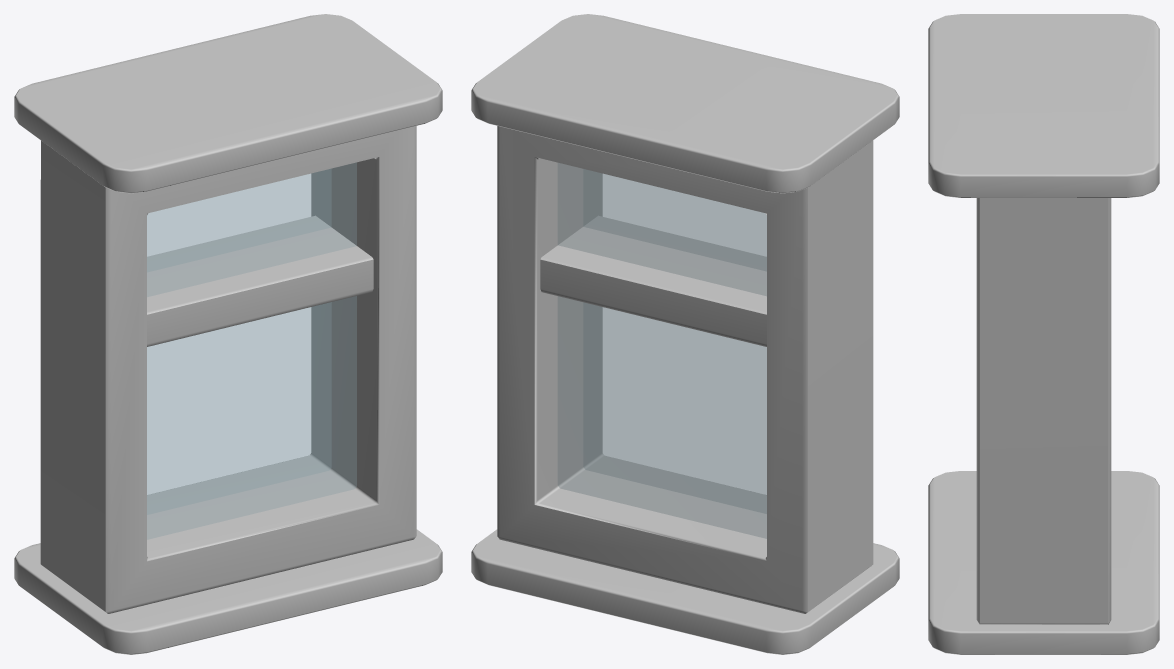
Rendered from Window_23.fbx.
3 views of the same model, side by side, from view 1: azimuth 30°, elevation 25°; view 2: azimuth 150°, elevation 25°; view 3: azimuth 270°, elevation 25° (orthographic).
Parts seen in each view (by area): view 1: Window_23; view 2: Window_23; view 3: Window_23.
Part boxes in pixels (x1,y1,x2,y2): Window_23: [14, 14, 442, 654]; Window_23: [471, 14, 899, 654]; Window_23: [928, 14, 1159, 654].
Bounding box in the file's own units: 150 × 207 × 90.27.
